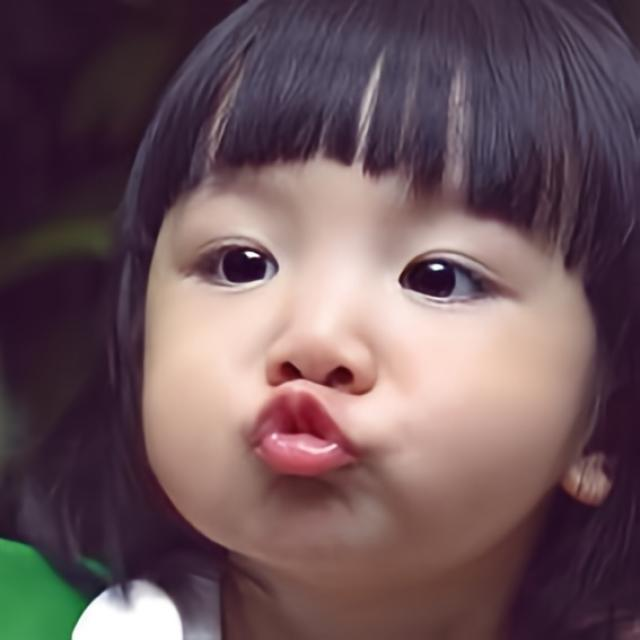surprise: (143, 142, 569, 569)
